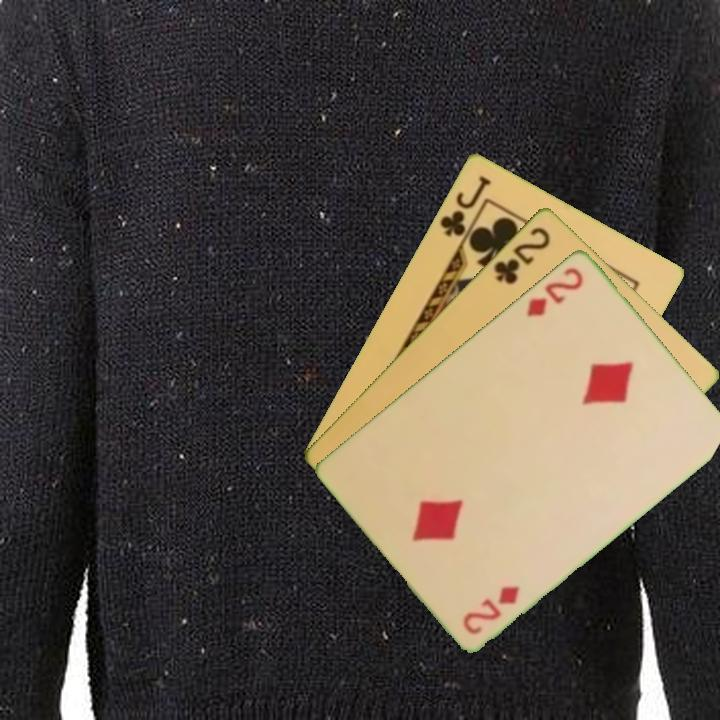2c: (490, 222, 554, 287)
2d: (523, 263, 586, 320), (459, 581, 523, 637)
Jc: (436, 171, 494, 239)
